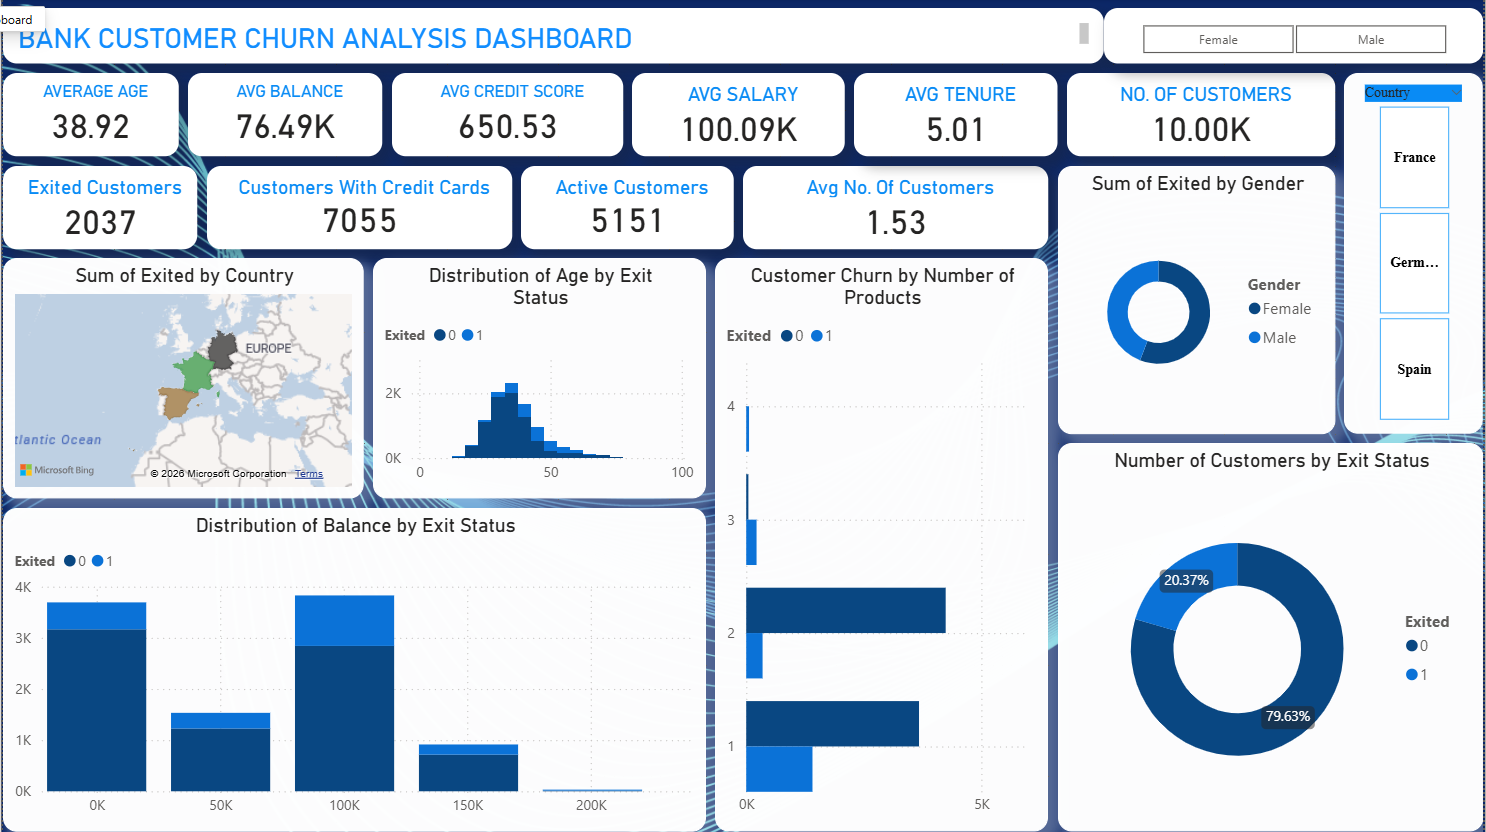

Layout of this report page (visuals, bound fields, positions):
{"tool":"powerbi","page":{"name":"Page 1","canvas":[1280,720],"ordinal":0},"visuals":[{"type":"textbox","box":[0,8,952,48],"z":0},{"type":"card","title":"AVERAGE AGE","fields":{"Values":["Avg(Sheet1.Age)"]},"box":[0,64,152,72],"z":1000},{"type":"card","title":"AVG BALANCE","fields":{"Values":["Avg(Sheet1.Balance)"]},"box":[160,64,168,72],"z":2000},{"type":"card","title":"AVG CREDIT SCORE","fields":{"Values":["Avg(Sheet1.CreditScore)"]},"box":[336,64,200,72],"z":3000},{"type":"card","title":"AVG SALARY","fields":{"Values":["Avg(Sheet1.EstimatedSalary)"]},"box":[544,64,184,72],"z":4000},{"type":"card","title":"Exited  Customers","fields":{"Values":["Sum(Sheet1.Exited)"]},"box":[0,144,168,72],"z":5000},{"type":"card","title":"Customers With Credit Cards","fields":{"Values":["Sum(Sheet1.HasCrCard)"]},"box":[176,144,264,72],"z":6000},{"type":"card","title":"Active Customers","fields":{"Values":["Sum(Sheet1.IsActiveMember)"]},"box":[448,144,184,72],"z":7000},{"type":"card","title":"Avg No. Of Customers","fields":{"Values":["Avg(Sheet1.NumOfProducts)"]},"box":[640,144,264,72],"z":8000},{"type":"card","title":"AVG TENURE","fields":{"Values":["Avg(Sheet1.Tenure)"]},"box":[736,64,176,72],"z":9000},{"type":"card","title":"NO. OF CUSTOMERS","fields":{"Values":["CountNonNull(Sheet1.CustomerId)"]},"box":[920,64,232,72],"z":10000},{"type":"slicer","fields":{"Values":["Sheet1.Gender"]},"box":[952,8,328,48],"z":11000},{"type":"slicer","fields":{"Values":["Sheet1.Geography"]},"box":[1160,64,120,312],"z":12000},{"type":"donutChart","fields":{"Category":["Sheet1.Gender"],"Y":["Sum(Sheet1.Exited)"]},"box":[912,144,240,232],"z":13000},{"type":"filledMap","title":"Sum of Exited by Country","fields":{"Category":["Sheet1.Geography"]},"box":[0,224,312,208],"z":14000},{"type":"columnChart","title":"Distribution of Age by Exit Status","fields":{"Category":["Sheet1.Age (bins)"],"Y":["CountNonNull(Sheet1.CustomerId)"],"Series":["Sheet1.Exited"]},"box":[320,224,288,208],"z":15000},{"type":"clusteredBarChart","title":"Customer Churn by Number  of Products","fields":{"Y":["CountNonNull(Sheet1.CustomerId)"],"Category":["Sheet1.NumOfProducts"],"Series":["Sheet1.Exited"]},"box":[616,224,288,496],"z":16000},{"type":"donutChart","title":"Number of Customers by Exit Status","fields":{"Y":["CountNonNull(Sheet1.CustomerId)"],"Category":["Sheet1.Exited"]},"box":[912,384,368,336],"z":17000},{"type":"columnChart","title":"Distribution of Balance by Exit Status","fields":{"Category":["Sheet1.Balance (bins)"],"Series":["Sheet1.Exited"],"Y":["CountNonNull(Sheet1.CustomerId)"]},"box":[0,440,608,280],"z":18000}]}

Visuals, with their boxes in screenshot pixels (x1, y1, x2, y2):
textbox: bbox=[15, 5, 1100, 60]
"AVERAGE AGE" card: bbox=[15, 69, 189, 151]
"AVG BALANCE" card: bbox=[198, 69, 389, 151]
"AVG CREDIT SCORE" card: bbox=[398, 69, 626, 151]
"AVG SALARY" card: bbox=[635, 69, 845, 151]
"Exited  Customers" card: bbox=[15, 160, 207, 242]
"Customers With Credit Cards" card: bbox=[216, 160, 517, 242]
"Active Customers" card: bbox=[526, 160, 736, 242]
"Avg No. Of Customers" card: bbox=[745, 160, 1046, 242]
"AVG TENURE" card: bbox=[854, 69, 1055, 151]
"NO. OF CUSTOMERS" card: bbox=[1064, 69, 1328, 151]
slicer - Sheet1.Gender: bbox=[1100, 5, 1474, 60]
slicer - Sheet1.Geography: bbox=[1337, 69, 1474, 425]
donutChart - Sheet1.Gender x Sum(Sheet1.Exited): bbox=[1055, 160, 1328, 425]
"Sum of Exited by Country" filledMap: bbox=[15, 251, 371, 488]
"Distribution of Age by Exit Status" columnChart: bbox=[380, 251, 708, 488]
"Customer Churn by Number  of Products" clusteredBarChart: bbox=[717, 251, 1046, 817]
"Number of Customers by Exit Status" donutChart: bbox=[1055, 434, 1474, 817]
"Distribution of Balance by Exit Status" columnChart: bbox=[15, 498, 708, 817]
